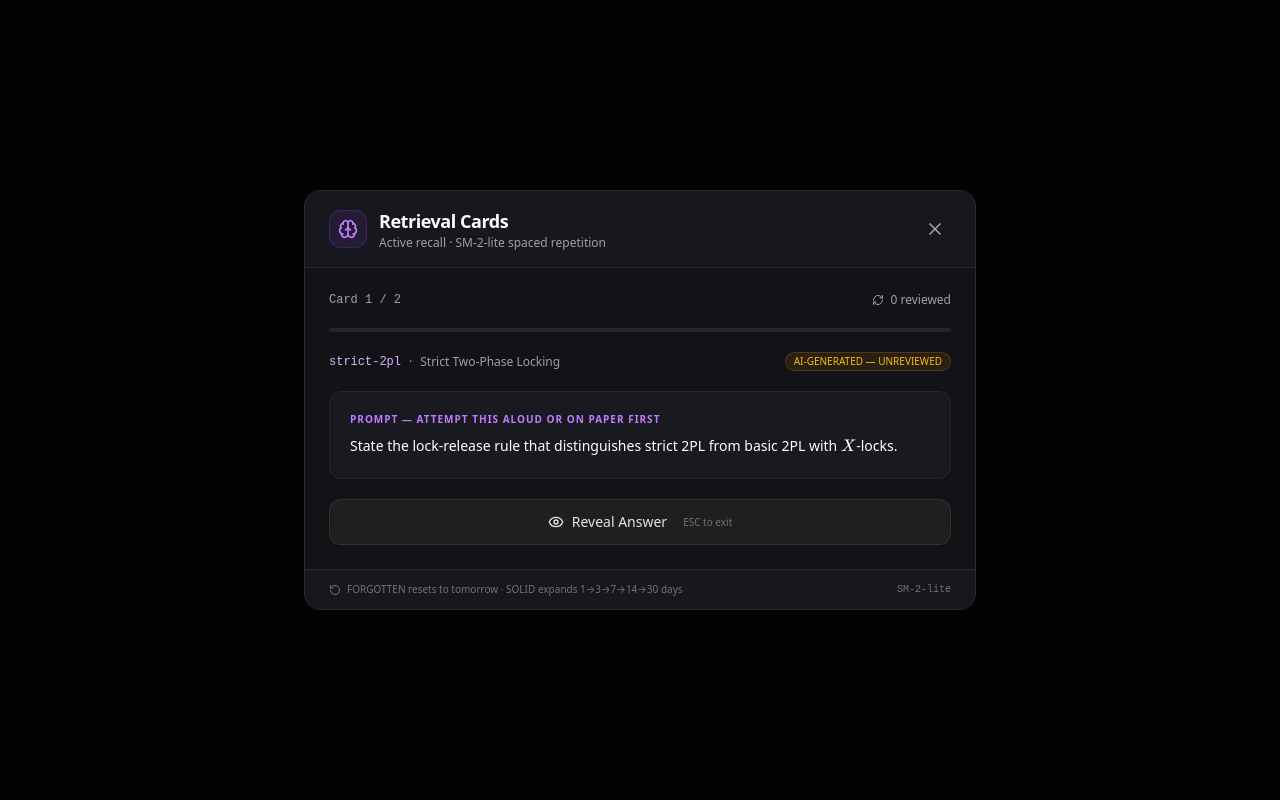
Test case: CardReviewDrawer Component › 6 honest-judge PASS - failed review does not advance the card and surfaces the error
What coordinates should you click on to do the following:
click the button with test id "card-reveal-btn"
I would click on:
 (640, 522)
Its box is [329, 499, 951, 545].
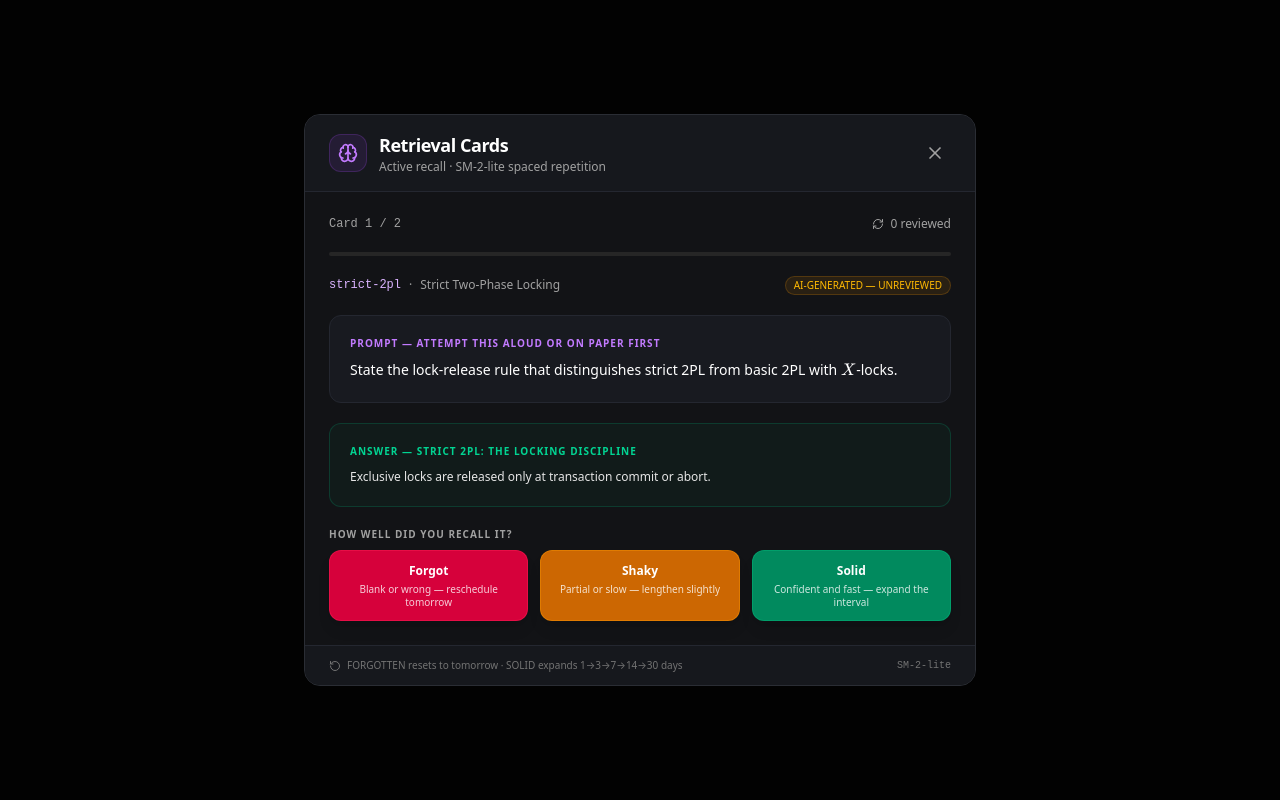
What coordinates should you click on to do the following:
click the button with test id "grade-solid-btn"
I would click on:
 (851, 586)
Its box is [752, 550, 951, 621].
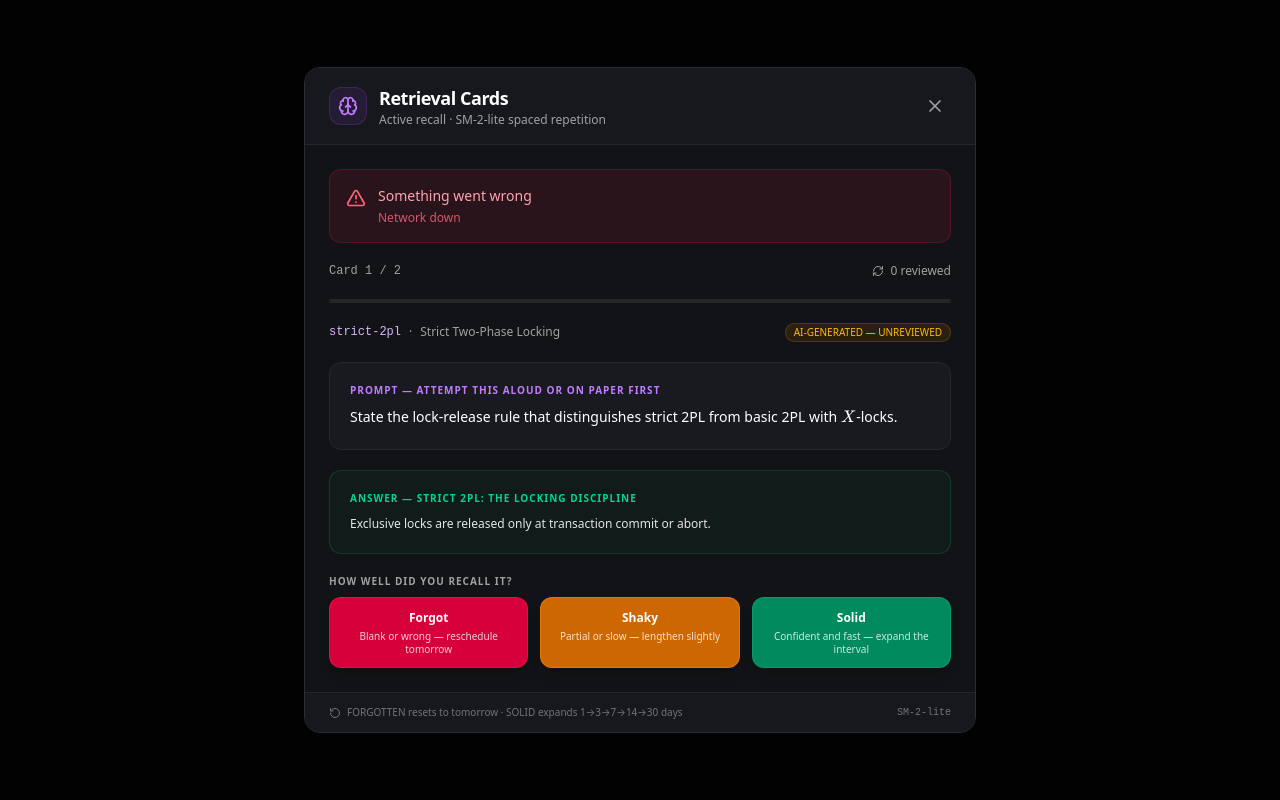
Check: the text "Card 1 / 2" is shown, box [329, 263, 401, 279]
Check: the element with test id "card-answer" is shown, box [329, 470, 951, 554]
Check: the message "Something went wrong Network down" is shown, box [329, 169, 951, 243]
